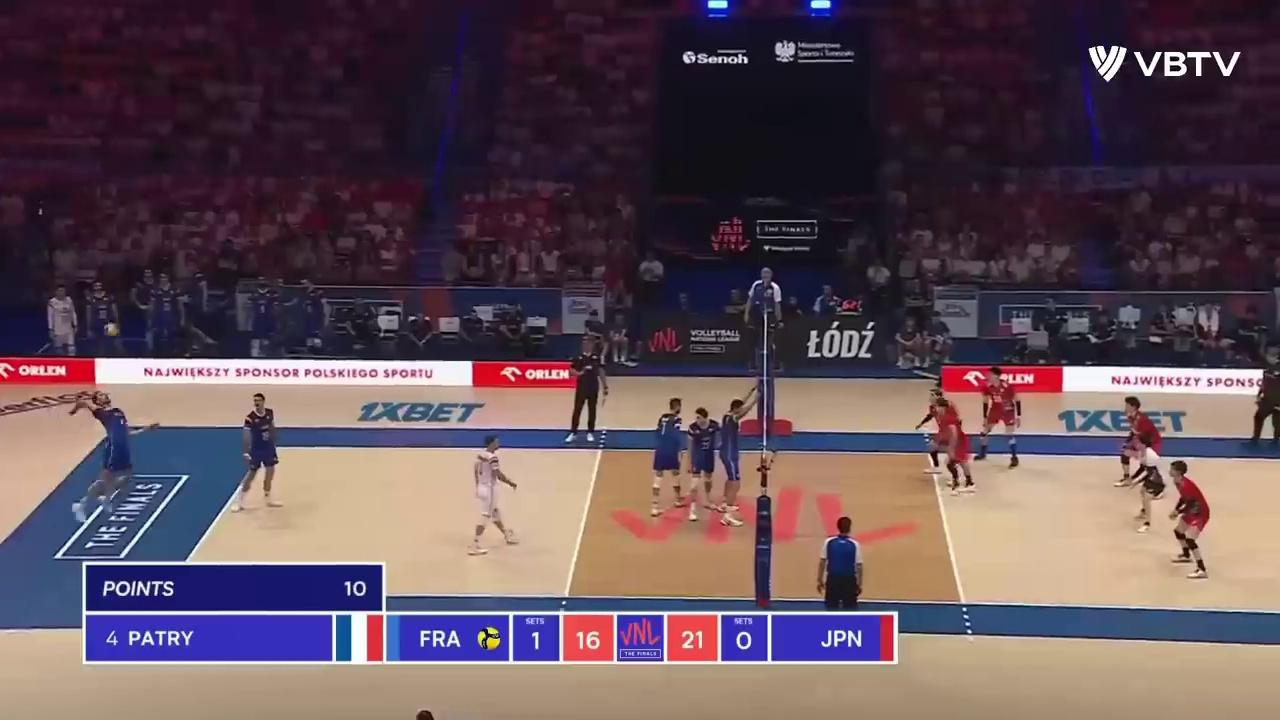ball: (105, 322, 119, 337)
